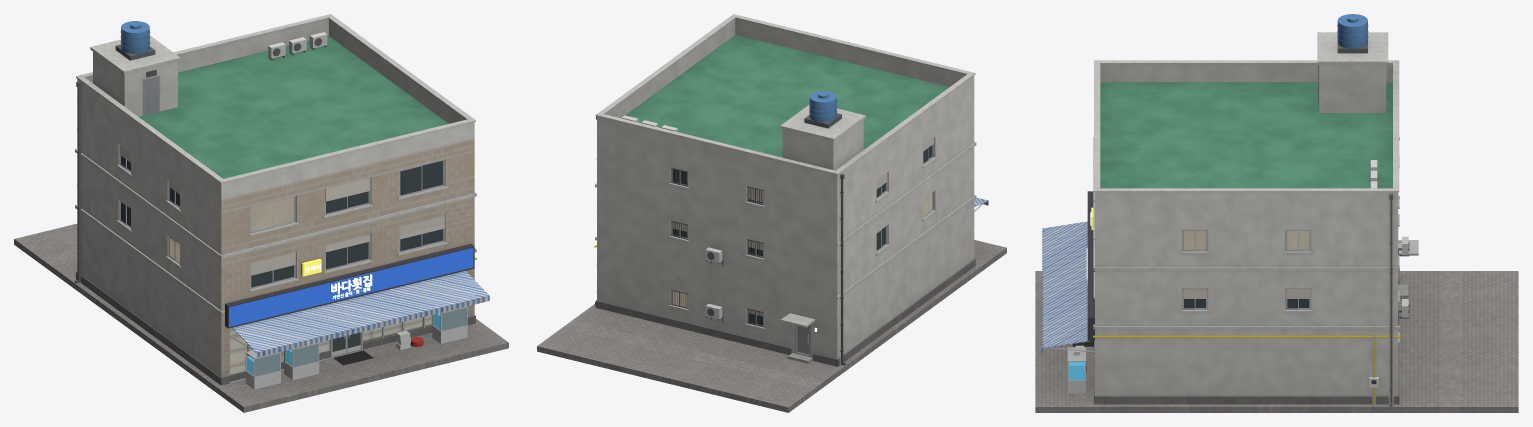
The model's file is IlsanHoetjip01.fbx.
3 renders of one model, left to right at view 1: azimuth 30°, elevation 25°; view 2: azimuth 150°, elevation 25°; view 3: azimuth 270°, elevation 25°, orthographic. The views are drawn at different scales.
Parts seen in each view (by area): view 1: IlsanHoetjip01; view 2: IlsanHoetjip01; view 3: IlsanHoetjip01.
Boxes of the visible parts, left/top/right/bottom form: IlsanHoetjip01: left=14, top=14, right=508, bottom=412; IlsanHoetjip01: left=537, top=14, right=1006, bottom=412; IlsanHoetjip01: left=1035, top=14, right=1518, bottom=412.
Bounding box in the file's own units: 15.9 × 15.35 × 23.9.
Materials: 1 (1 with a texture image).
